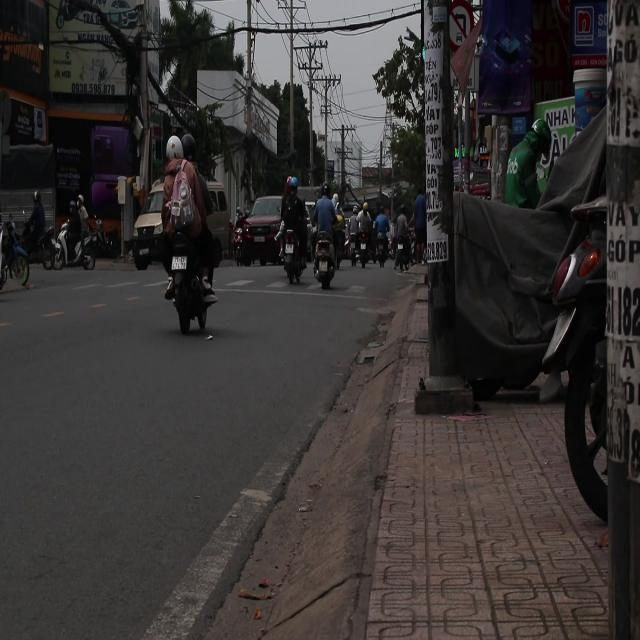car: (129, 181, 232, 269), (235, 196, 283, 266)
motorbike: (1, 196, 59, 270), (165, 263, 215, 335), (59, 216, 100, 278), (0, 224, 35, 291), (350, 218, 384, 278), (278, 226, 309, 288), (311, 234, 338, 289)
